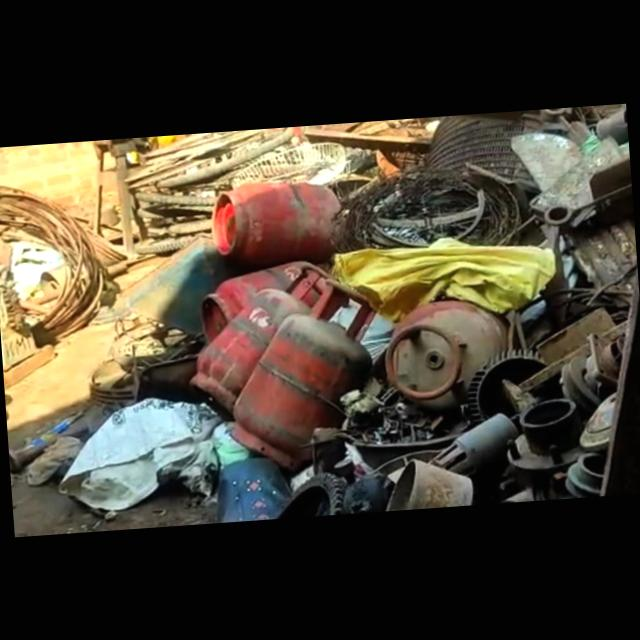Cylinders: (231, 282, 380, 465), (192, 265, 329, 412), (201, 260, 314, 345), (211, 184, 341, 256)
